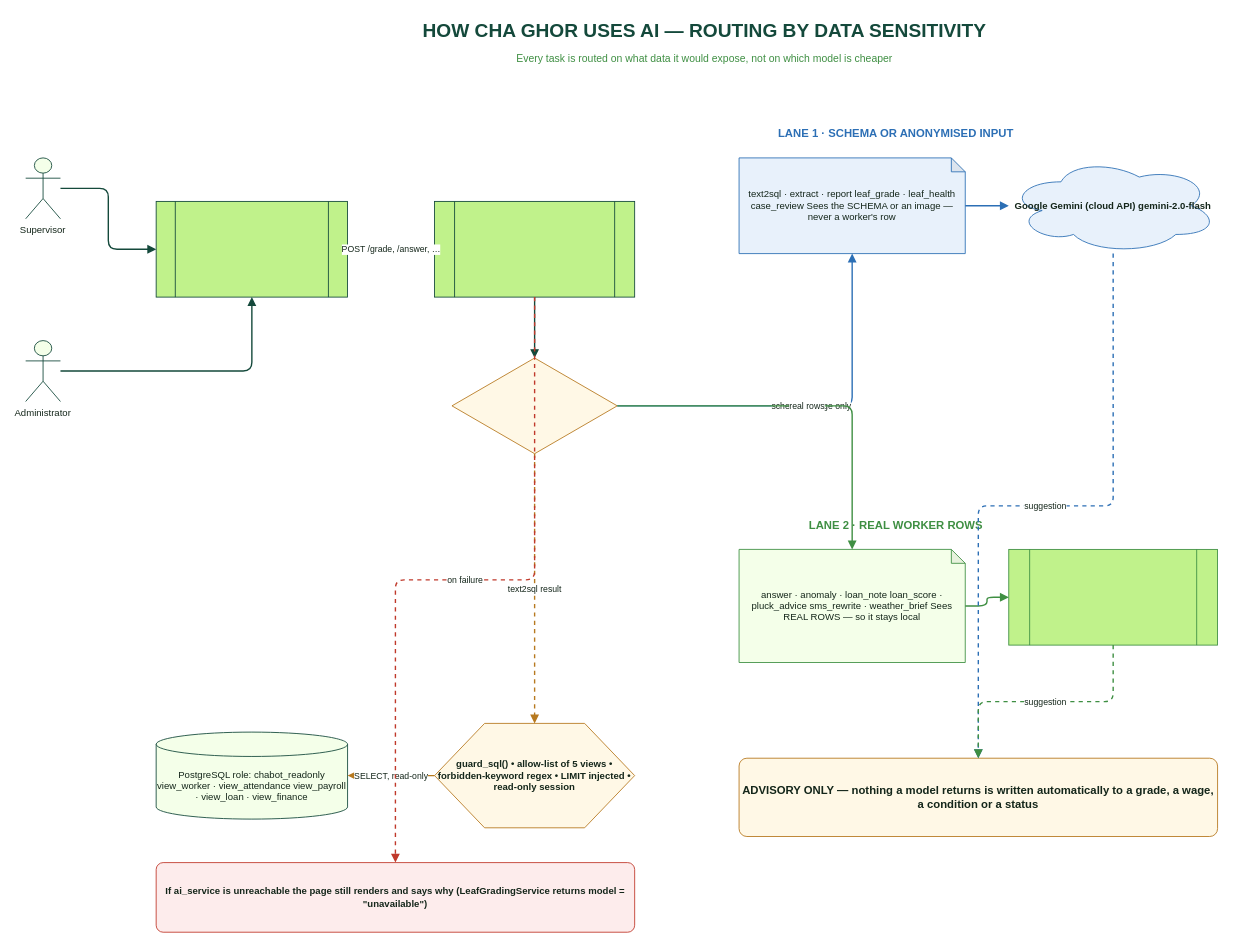
Image size: 1233x947. Some labels were removed from this diagram. The box of each missing label's shape, as (x1, y1, x2, y2) in pixels:
ai_service (FastAPI) llm.py — task router 12 named tasks: (434, 201, 635, 297)
Ollama (runs on estate hardware) No data leaves the building: (1008, 549, 1218, 645)
SPRING BOOT BACKEND Calls pinned to HTTP/1.1 Every call wrapped in try/catch: (155, 201, 348, 297)
Which data would this task see?: (451, 357, 617, 454)
